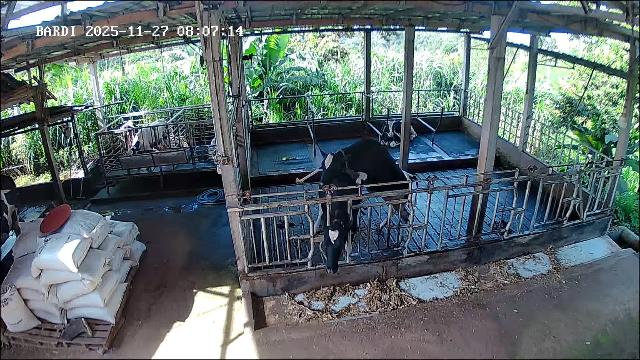mounting: (294, 138, 418, 239)
